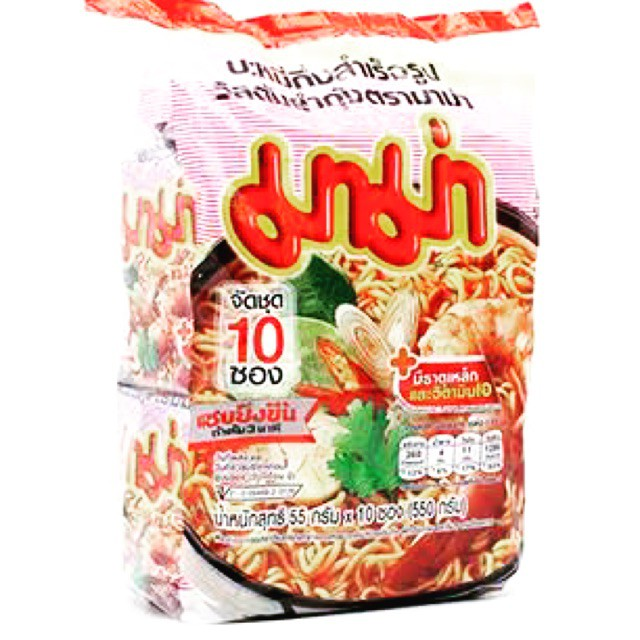Snack: (63, 2, 551, 625)
